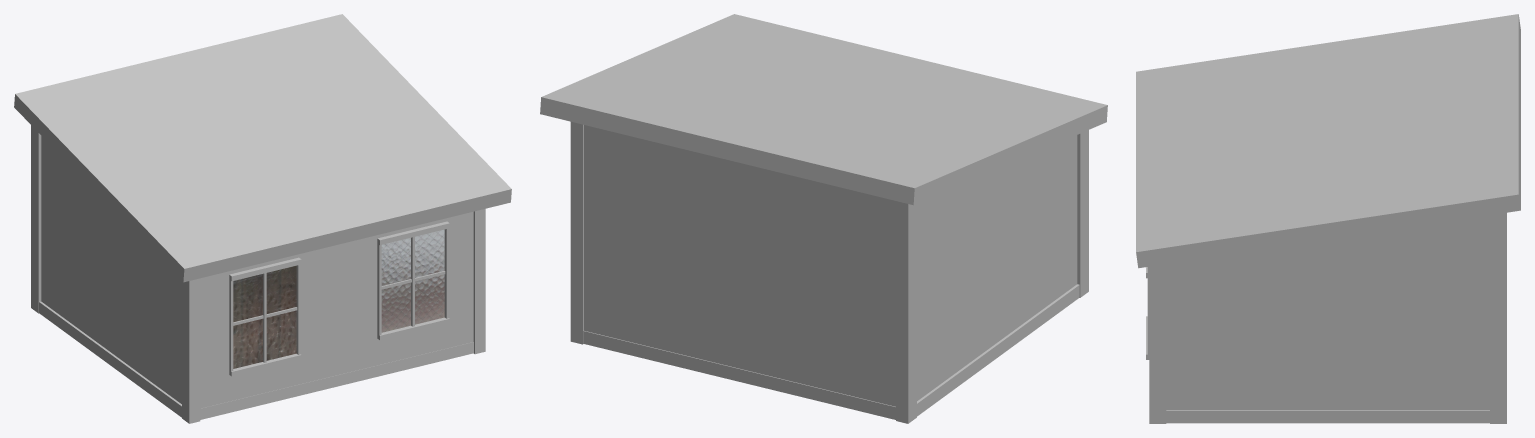
The model's file is apart_poor_08c.fbx.
3 renders of one model, left to right at view 1: azimuth 30°, elevation 25°; view 2: azimuth 150°, elevation 25°; view 3: azimuth 270°, elevation 25°, orthographic. The views are drawn at different scales.
Visible parts, largest first — view 1: apart_poor_08c; view 2: apart_poor_08c; view 3: apart_poor_08c.
Part boxes in pixels (x1,y1,x2,y2): apart_poor_08c: (14,14,511,423); apart_poor_08c: (540,14,1107,423); apart_poor_08c: (1136,14,1520,423).
Bounding box in the file's own units: 4.46 × 2.77 × 4.02.
